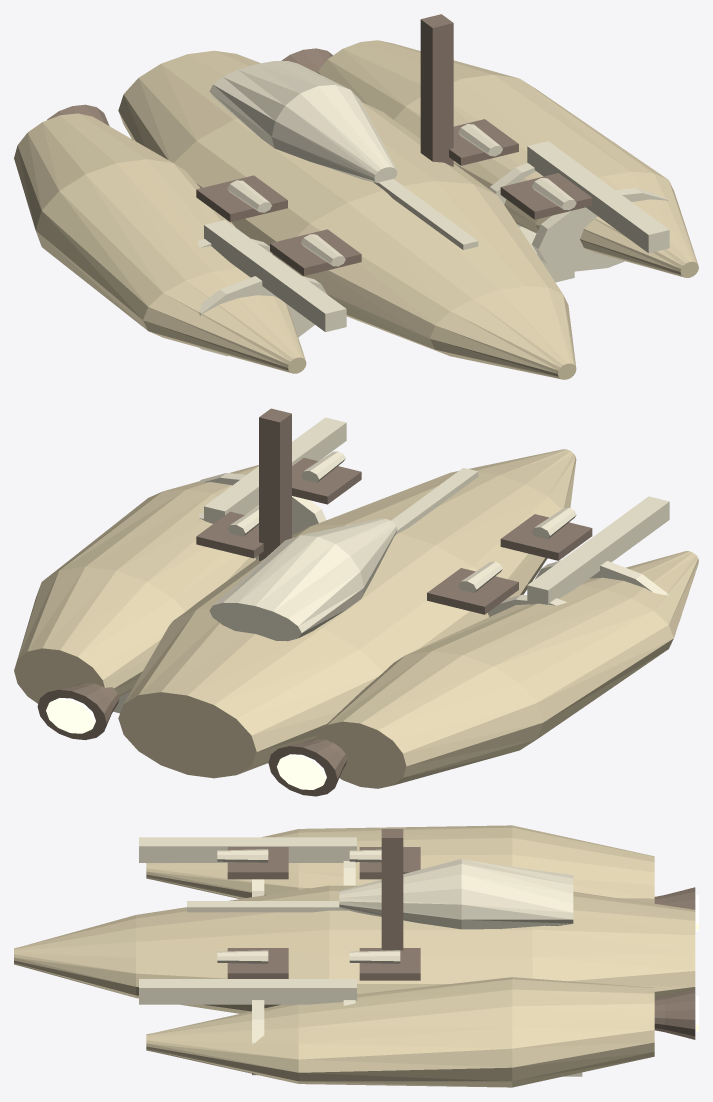
3 views of the same model, one above another, from view 1: azimuth 30°, elevation 25°; view 2: azimuth 150°, elevation 25°; view 3: azimuth 270°, elevation 25° (orthographic). The views are drawn at different scales.
Bounding box in the file's own units: 12.12 × 5.07 × 15.08.
